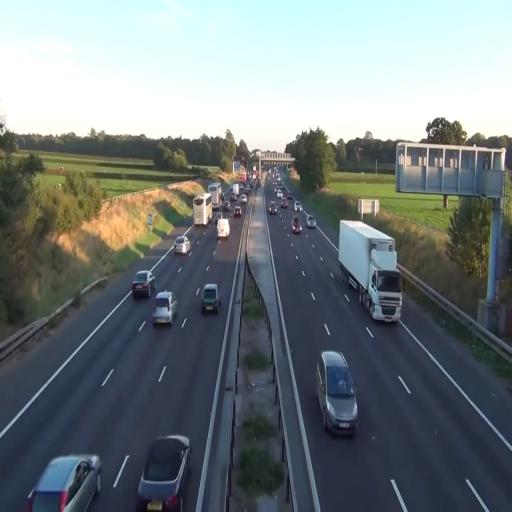vehicle: (338, 218, 402, 322), (26, 453, 101, 512), (135, 434, 191, 512), (316, 349, 358, 435), (154, 290, 178, 326), (192, 194, 212, 228), (130, 272, 154, 300), (202, 283, 220, 313), (173, 235, 192, 257), (217, 217, 229, 240), (234, 204, 242, 218)
